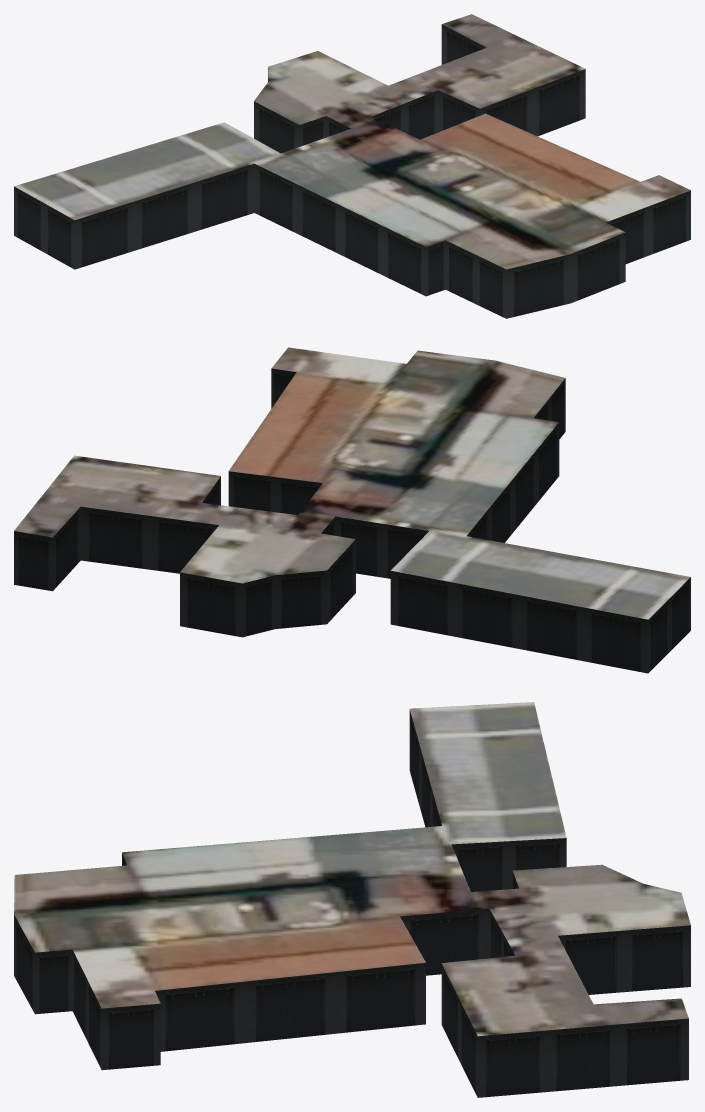
The model's file is T_1T00G4NVXD.dae.
3 views of the same model, one above another, from view 1: azimuth 30°, elevation 25°; view 2: azimuth 150°, elevation 25°; view 3: azimuth 270°, elevation 25° (orthographic). The views are drawn at different scales.
Visible parts, largest first — view 1: SketchUp (×15); view 2: SketchUp (×15); view 3: SketchUp (×13).
Boxes of the visible parts, x1,y1,x2,y2 form: SketchUp (×15): (14, 14, 690, 318); SketchUp (×15): (14, 347, 690, 673); SketchUp (×13): (14, 702, 690, 1097).
Bounding box in the file's own units: 45.59 × 39.02 × 3.92.
2 materials, 2 textured.
